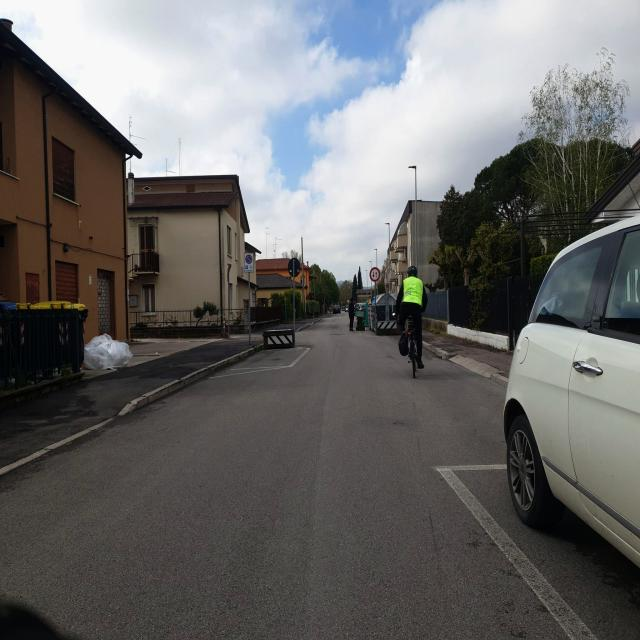bike: (399, 303, 425, 379)
car: (502, 198, 640, 640), (370, 293, 398, 332), (355, 304, 365, 330)
